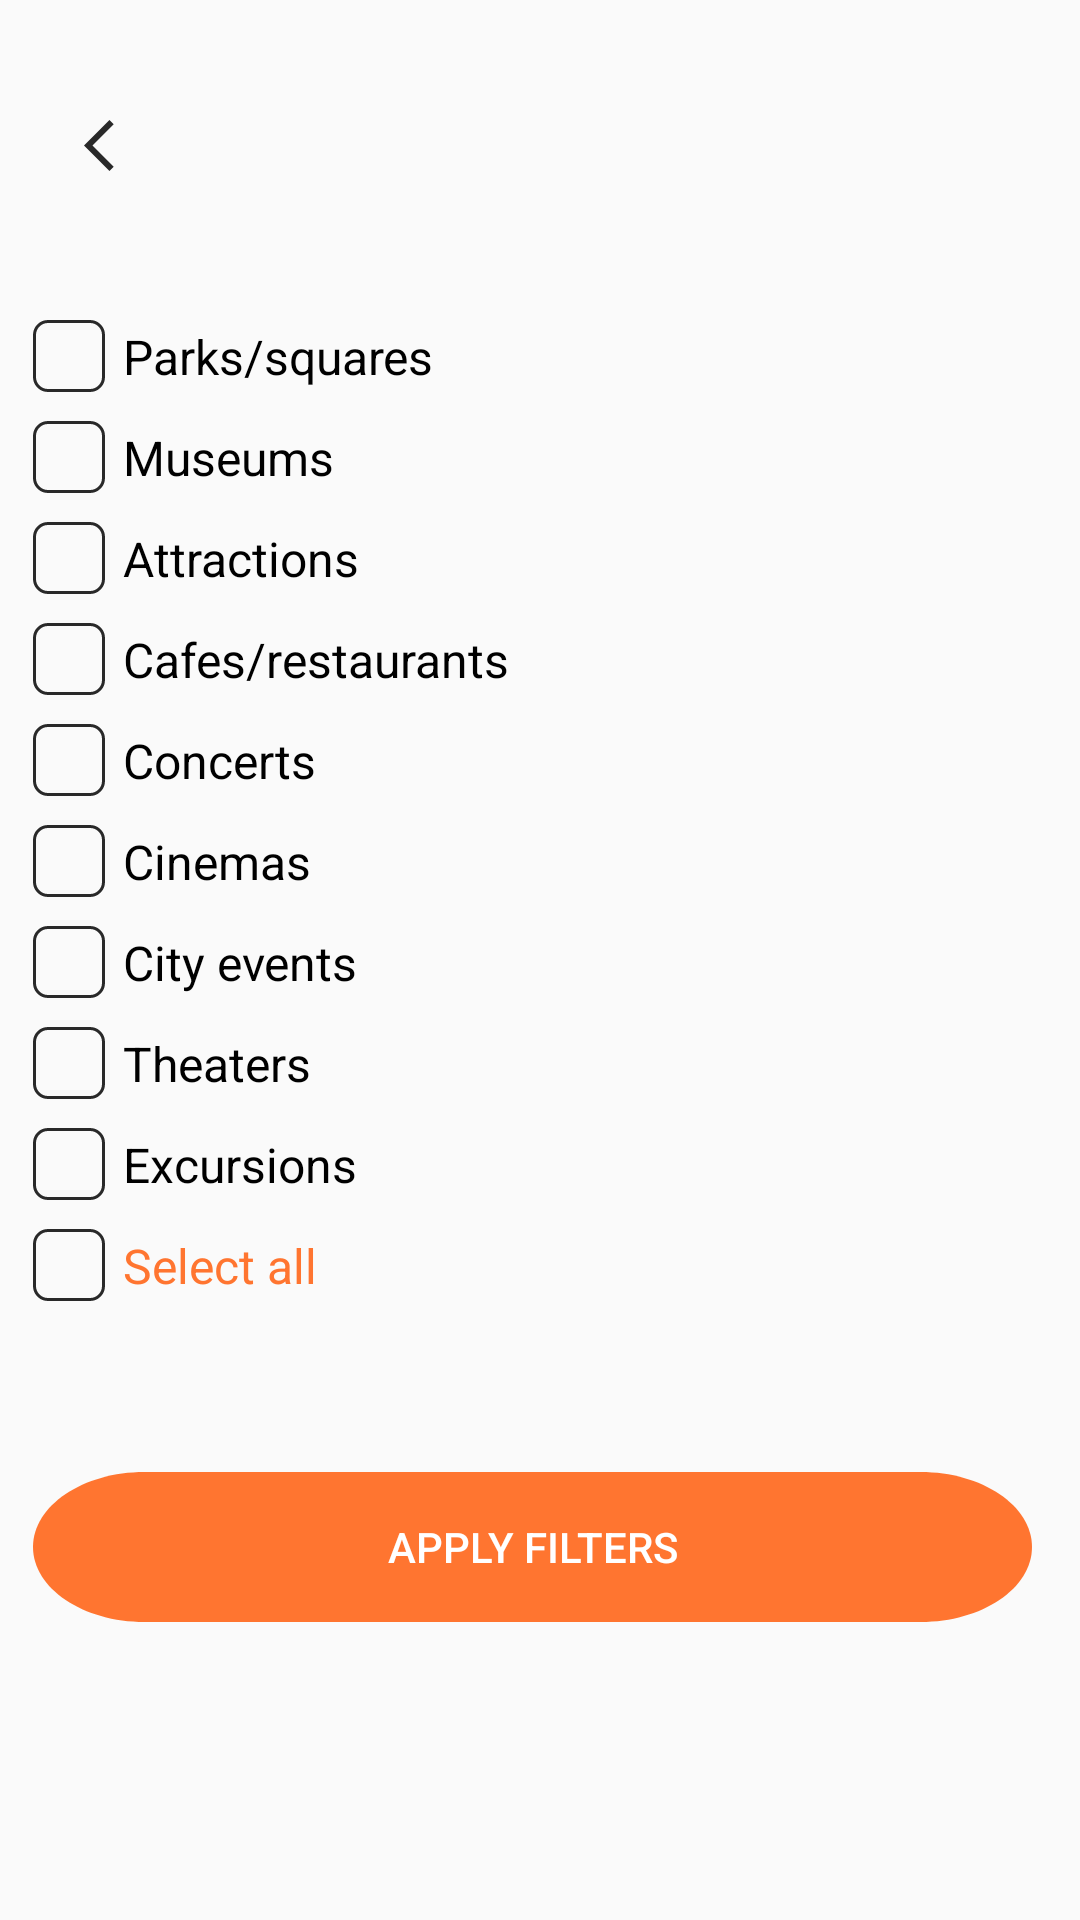

Icon click points for this 1080w x 1920h phone screenshot, format point (x, y):
back: point (99, 145)
